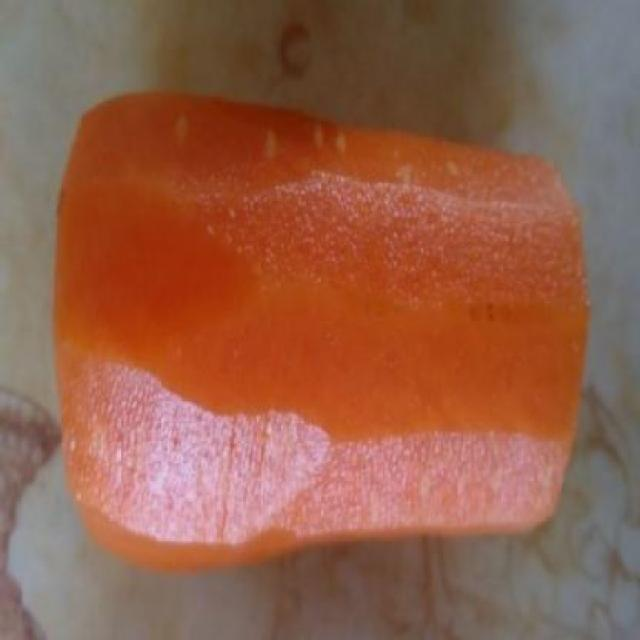carrot: (48, 73, 594, 584)
